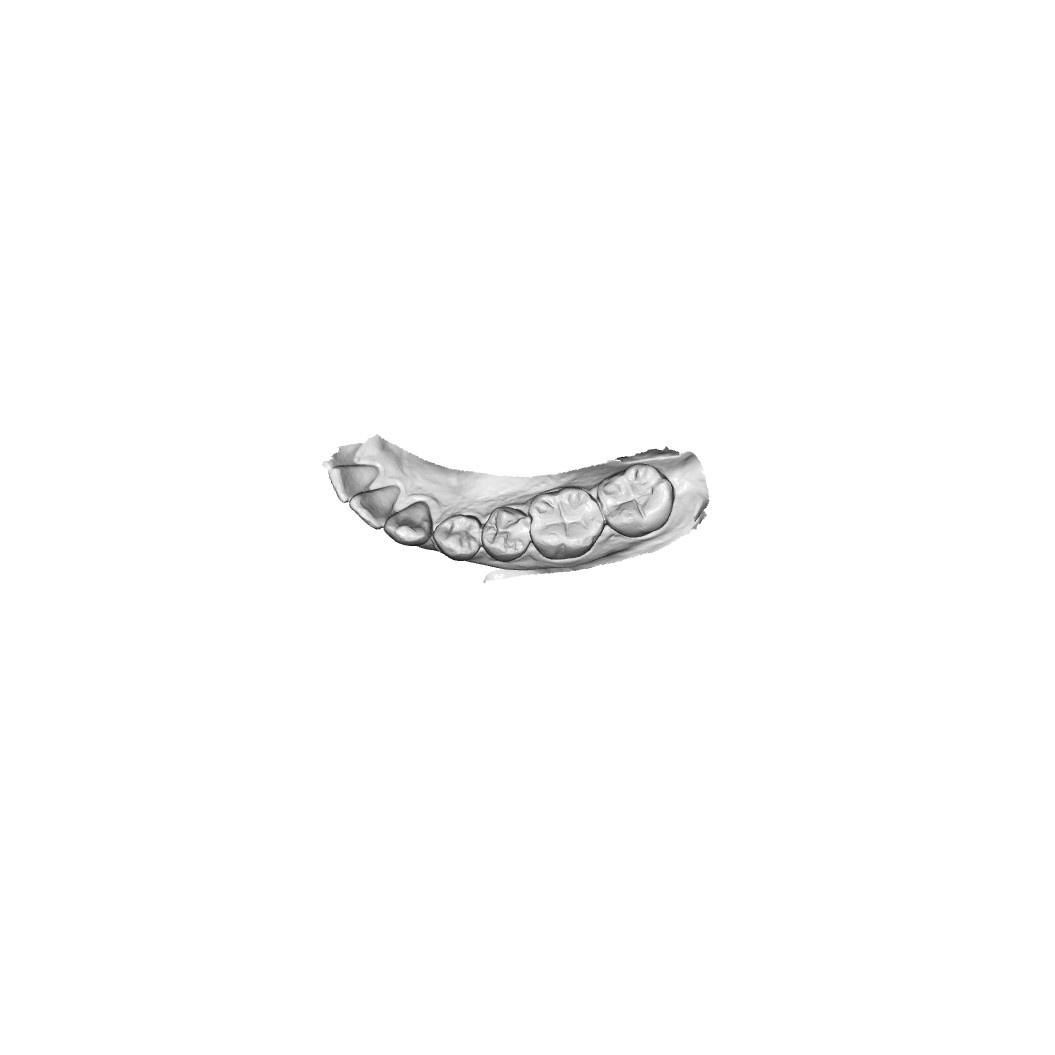canine: (386, 503, 431, 550)
incisor: (349, 483, 396, 532), (328, 464, 379, 504)
molar: (595, 463, 676, 537), (526, 487, 601, 560)
premolar: (479, 505, 533, 567), (433, 512, 484, 564)
